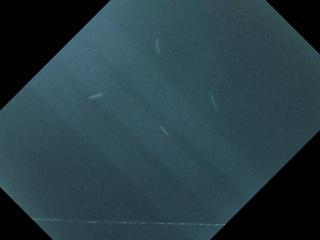crack: (30, 215, 230, 231)
scratch: (203, 82, 223, 117), (154, 118, 175, 145), (149, 31, 166, 60), (77, 91, 114, 102)
